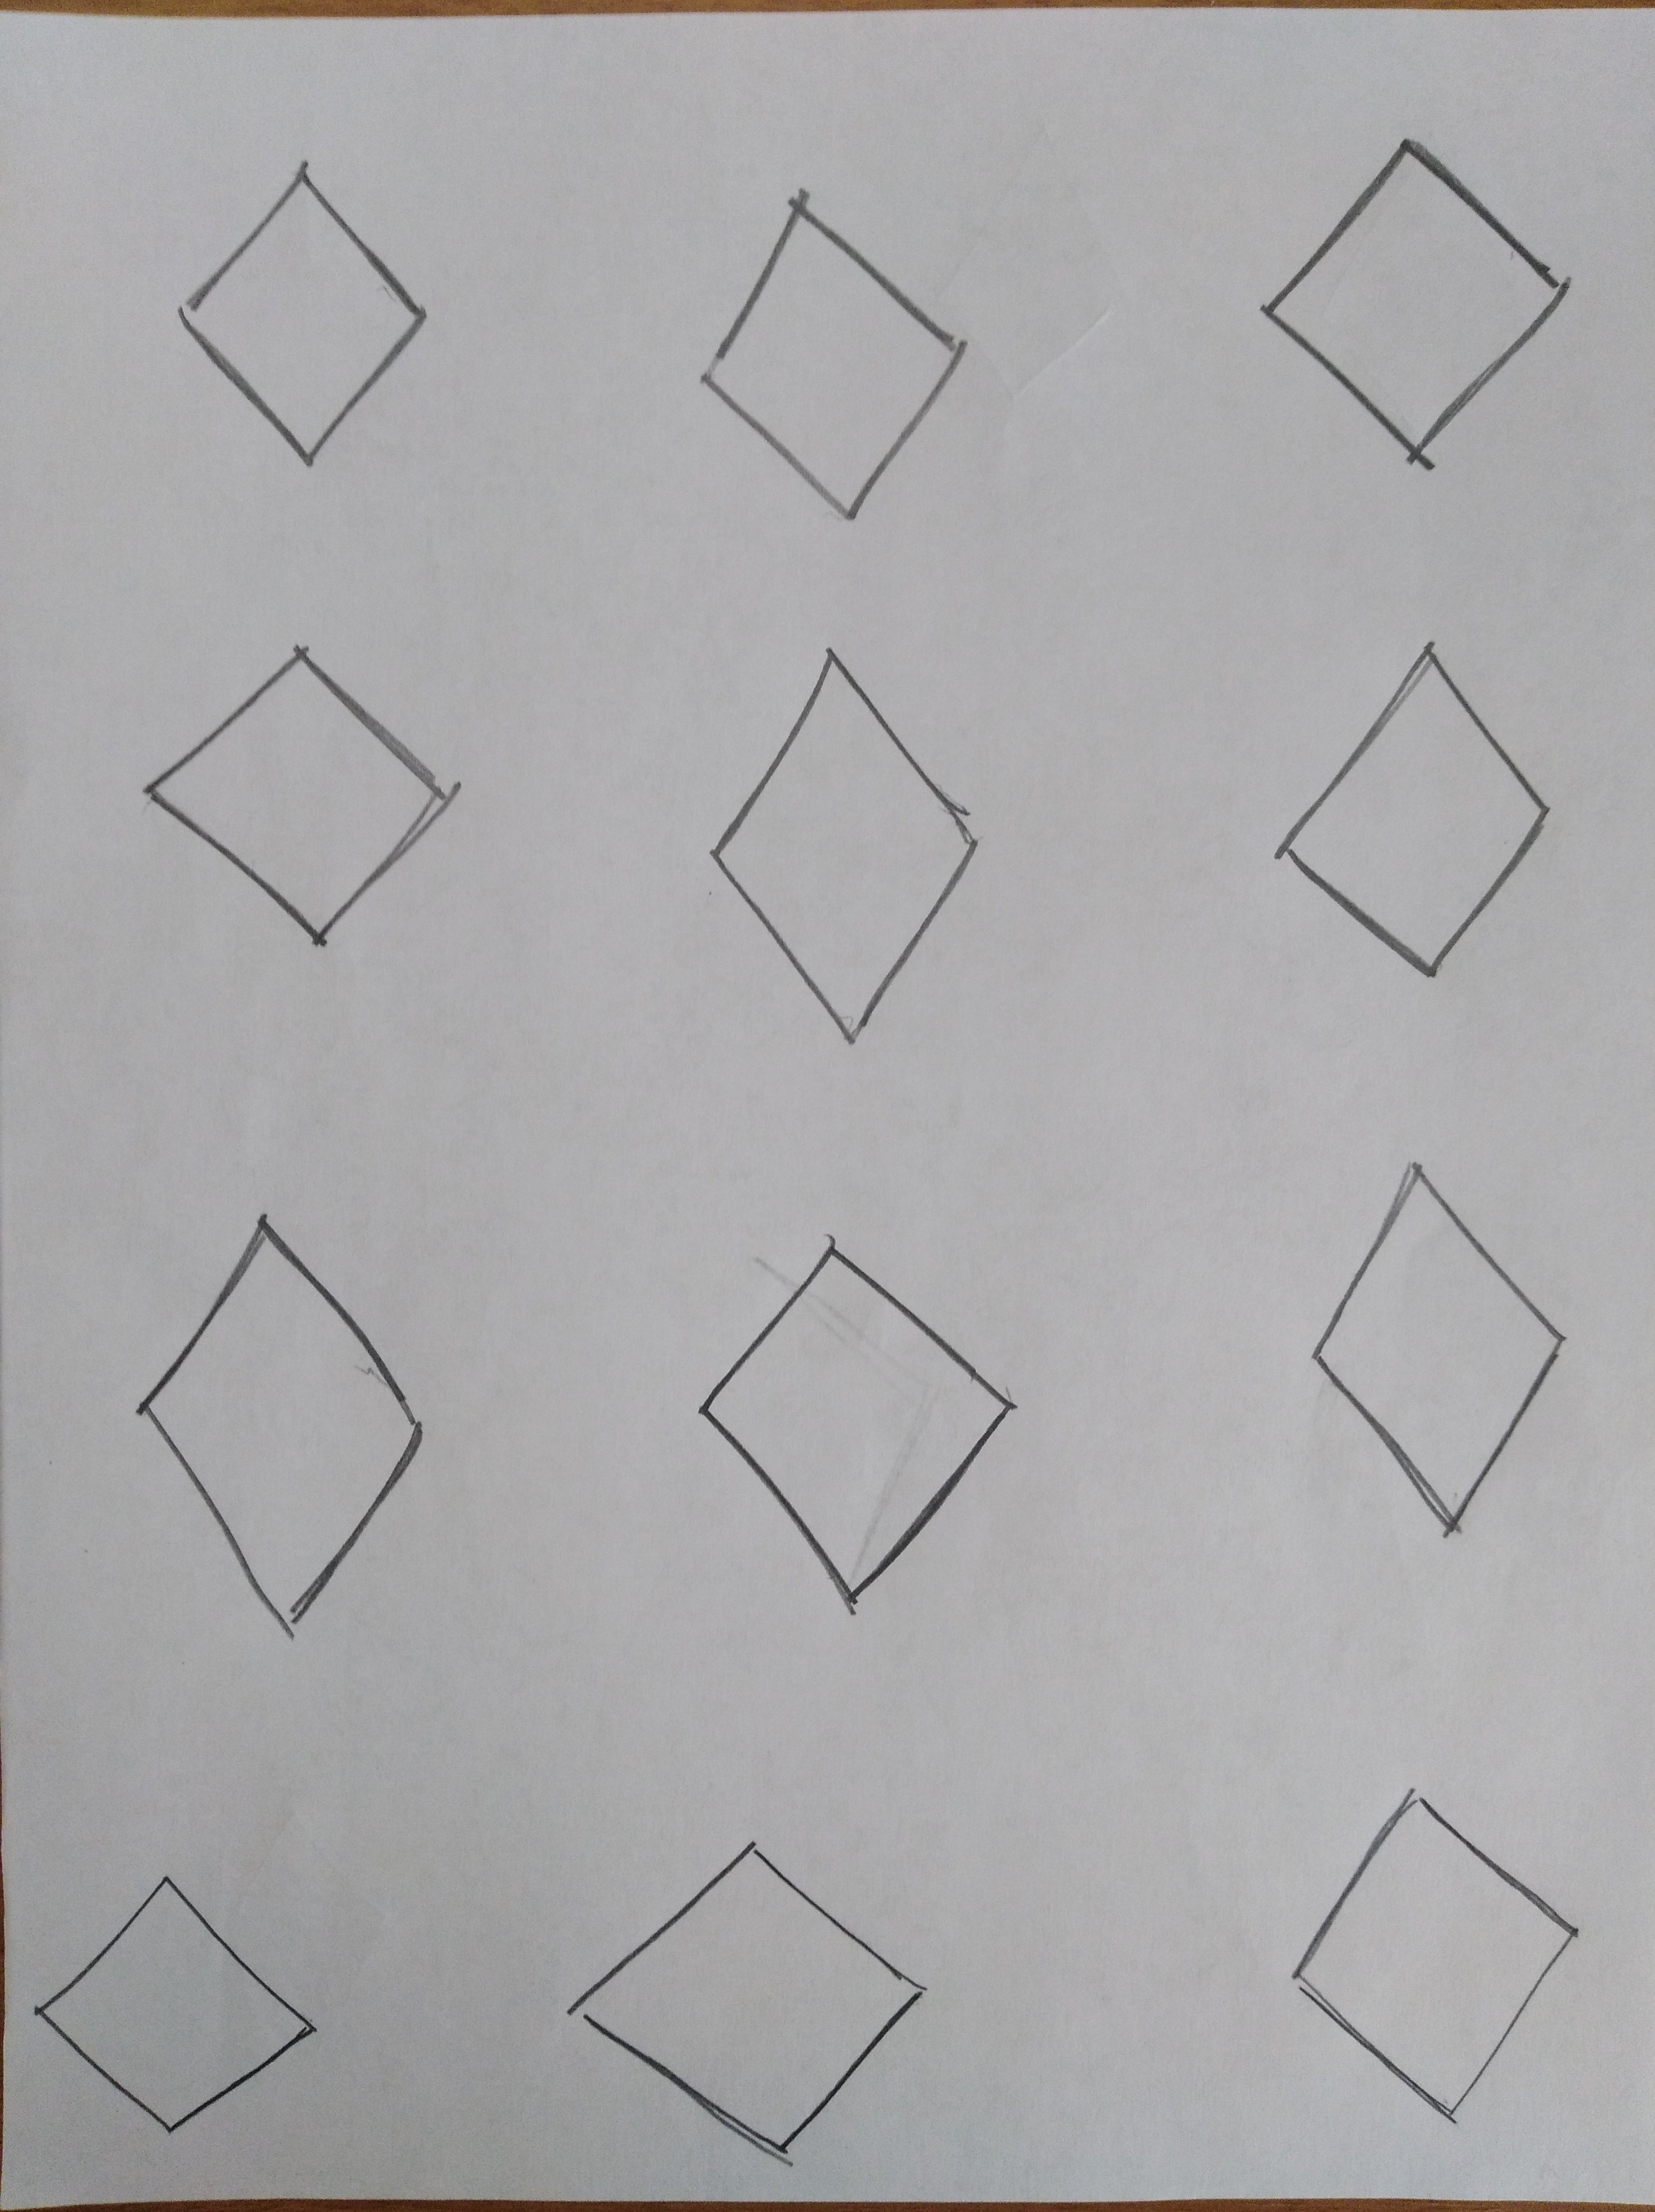decision: (75, 1185, 490, 1682), (633, 1189, 1062, 1644), (629, 146, 1031, 561), (664, 626, 1027, 1079), (527, 1816, 970, 2176), (1255, 1133, 1608, 1576), (1217, 108, 1601, 499), (111, 615, 520, 982), (1231, 608, 1594, 1017), (111, 125, 490, 516), (1231, 1760, 1612, 2148), (19, 1833, 342, 2162)
